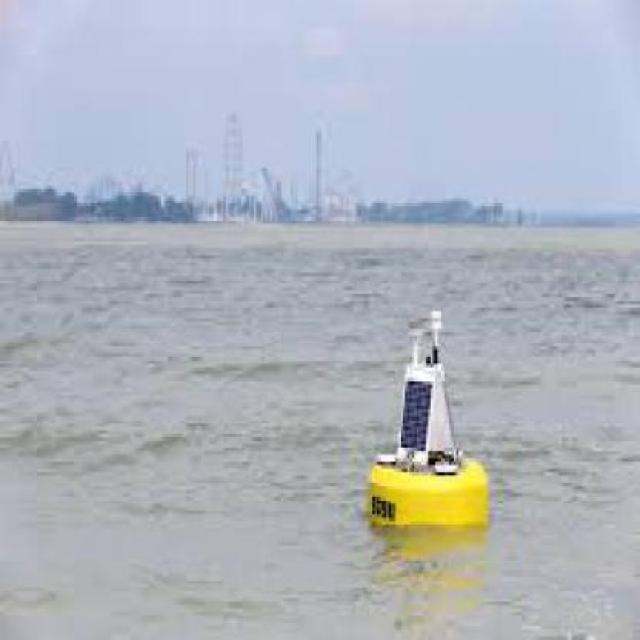buoy: (353, 309, 493, 540)
